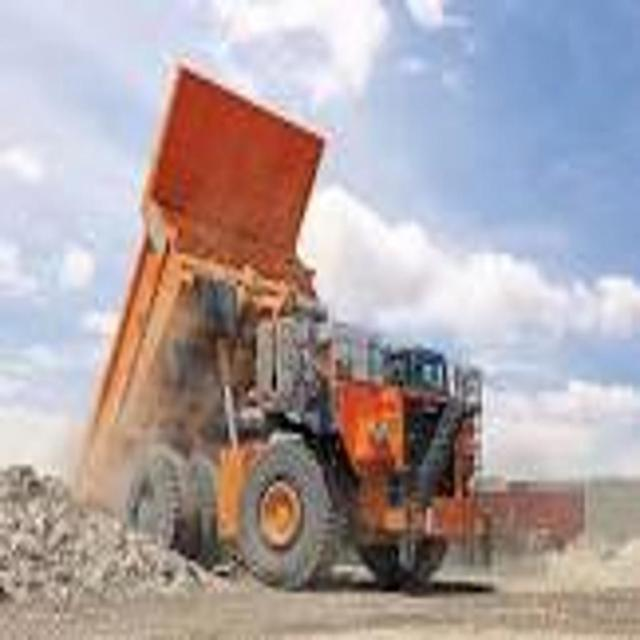dump_truck: (70, 46, 482, 596)
